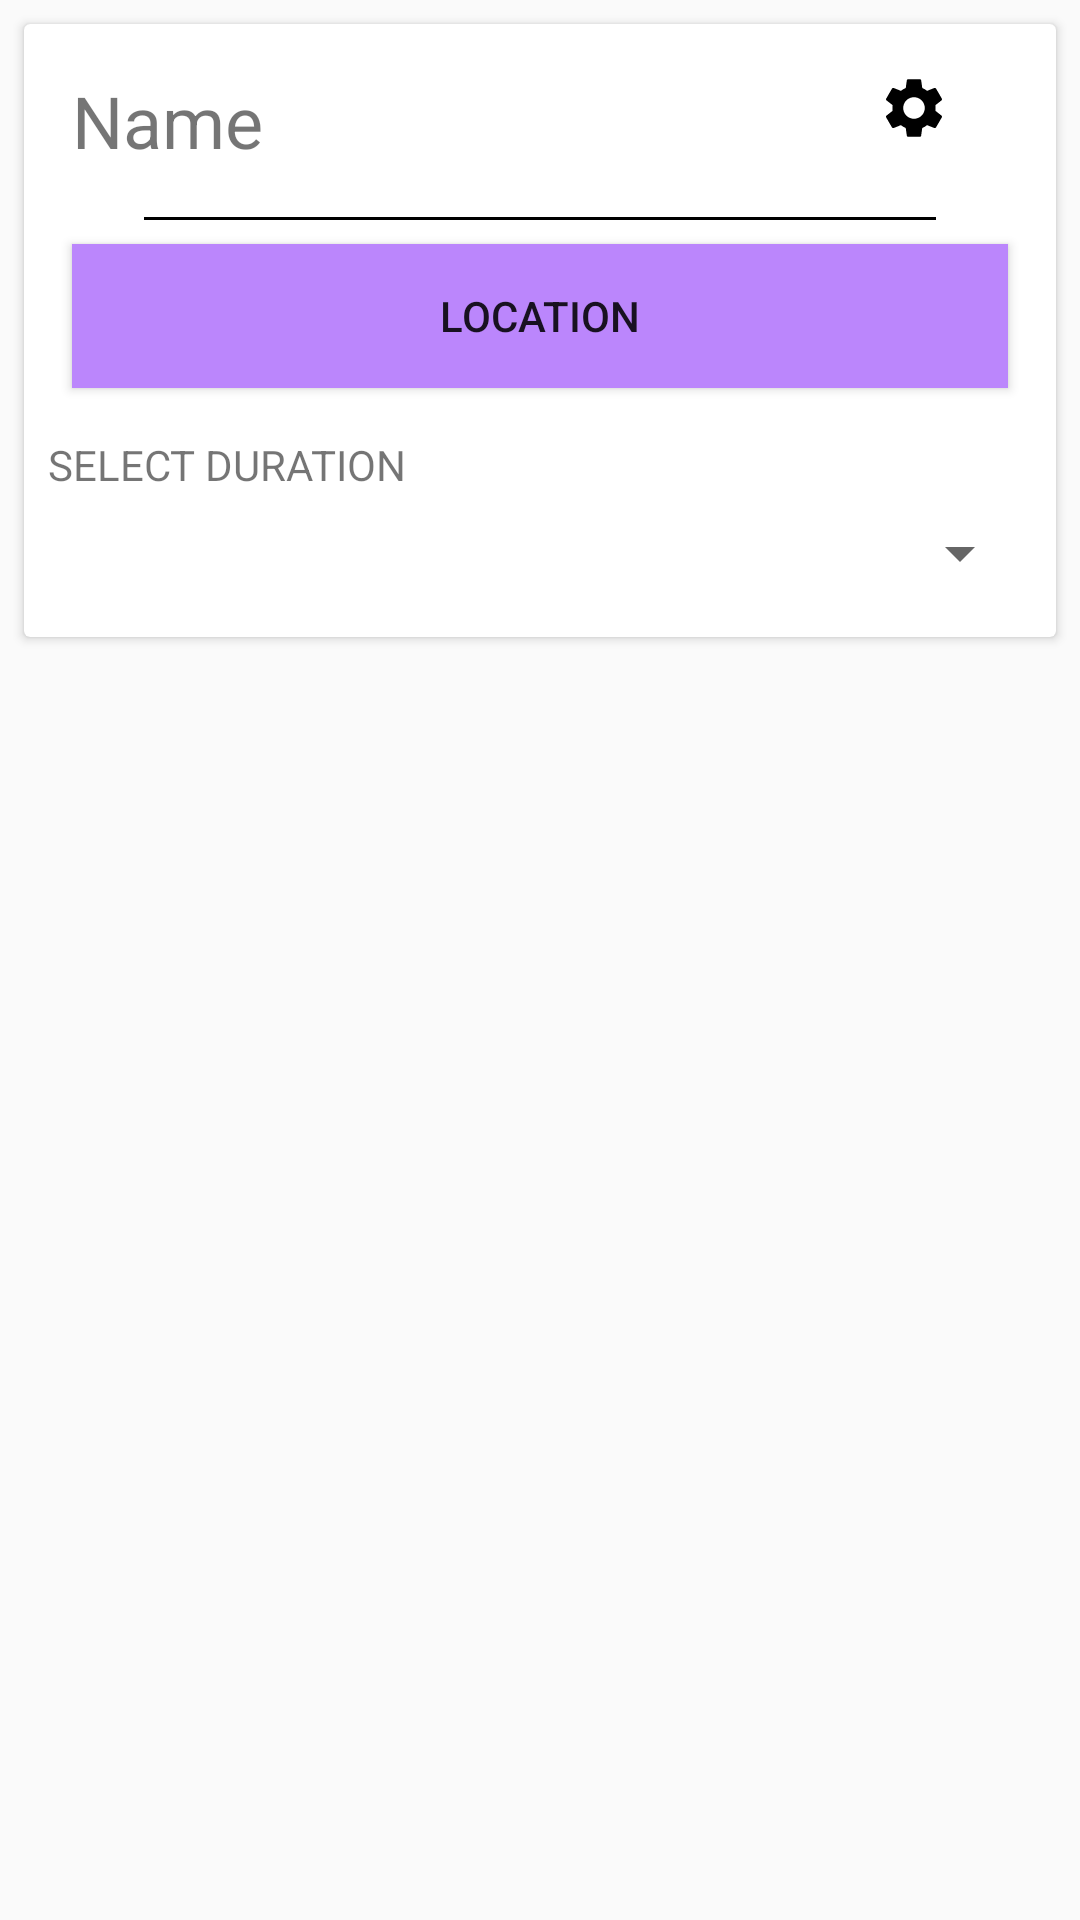

Point at icon controls on the screen. Image size 1080×1920, points as [x,y].
setting: [914,108]
